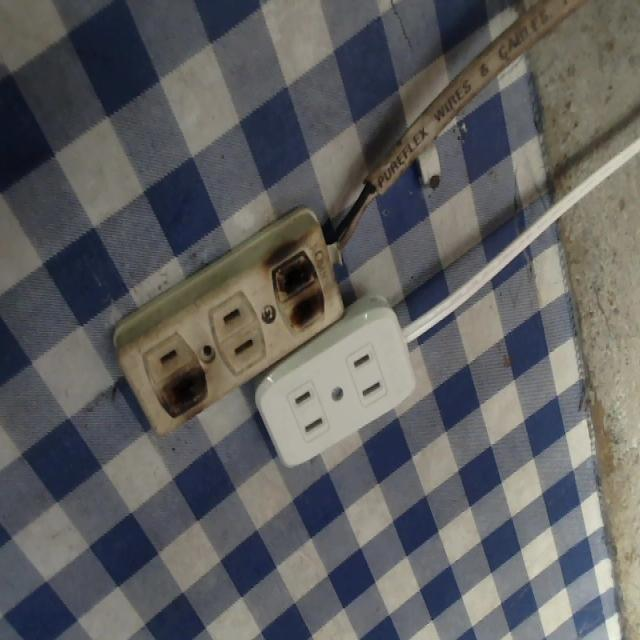-: (266, 247, 333, 329), (145, 367, 219, 428)
